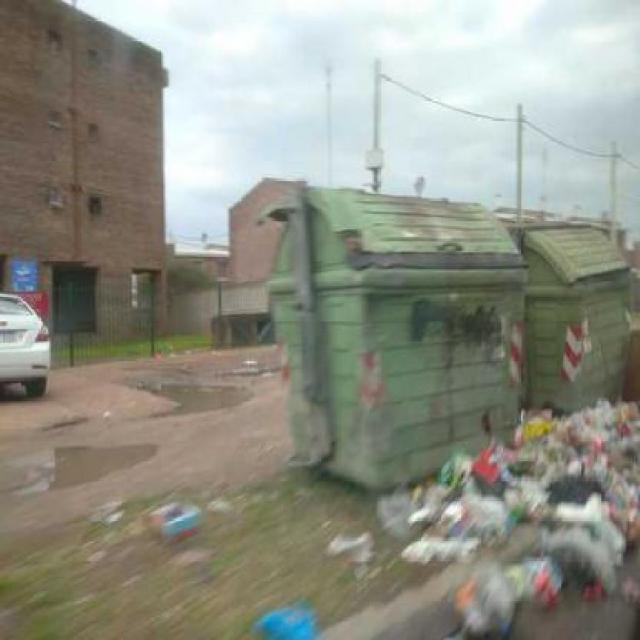garbage: (376, 436, 640, 640), (133, 500, 263, 567), (534, 394, 640, 461), (254, 592, 316, 638)
